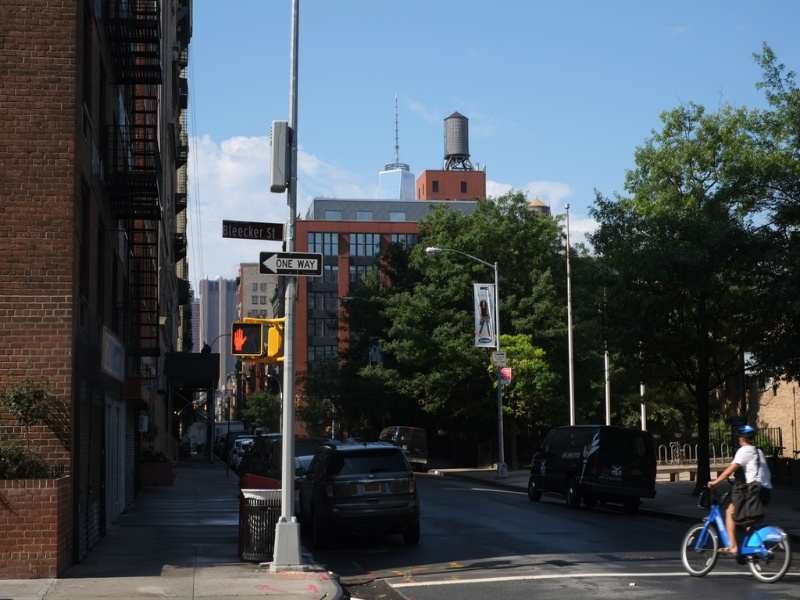one_way: (256, 244, 345, 280)
red_light: (230, 324, 262, 361)
